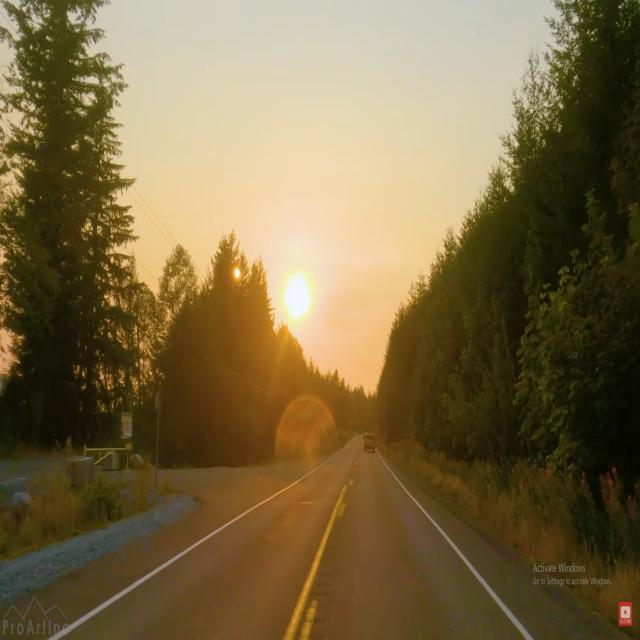sun: (279, 269, 315, 321)
